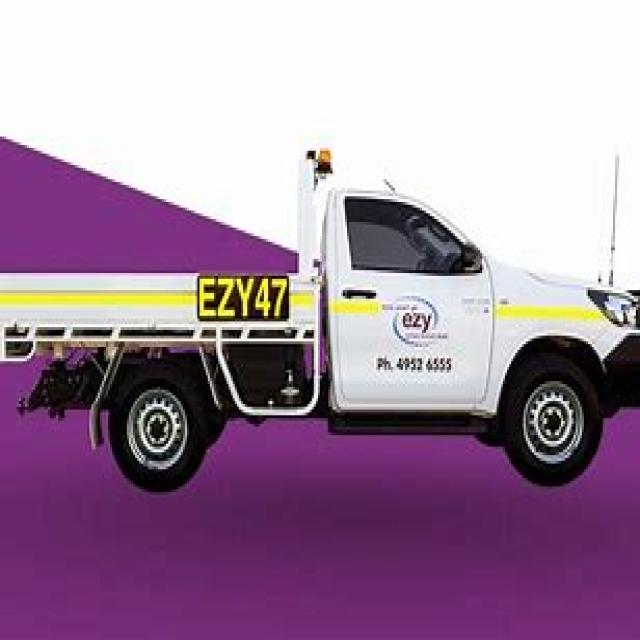light_vehicle: (2, 134, 638, 495)
